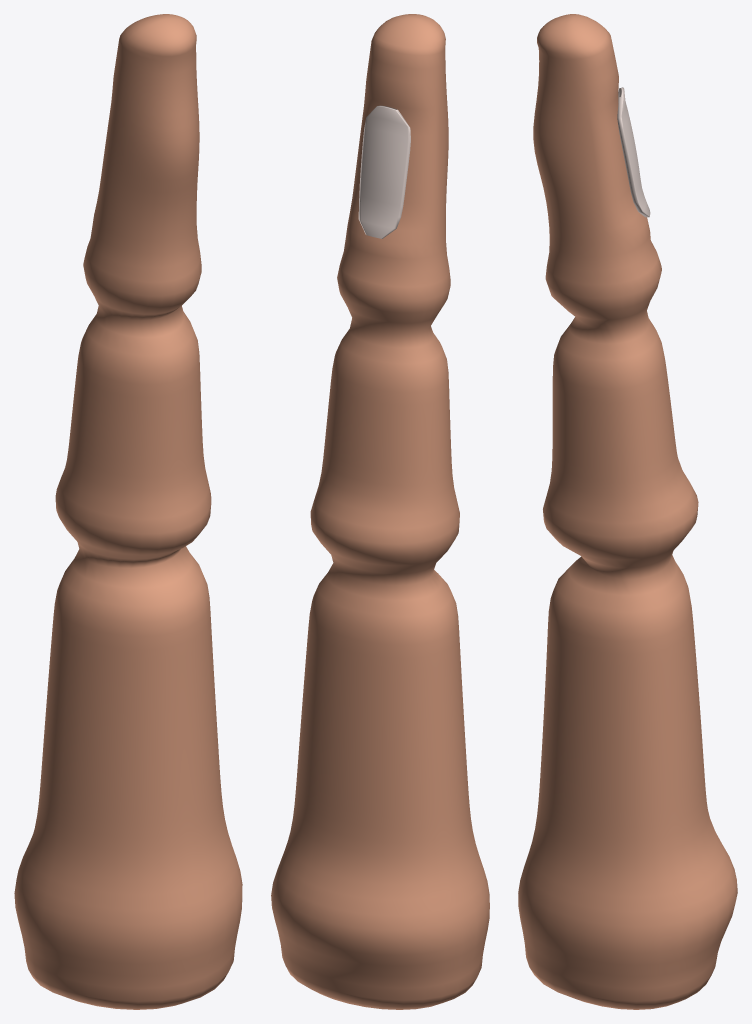
Rendered from Finger.obj.
The picture shows the model from 3 angles, left to right: view 1: azimuth 30°, elevation 25°; view 2: azimuth 150°, elevation 25°; view 3: azimuth 270°, elevation 25°; orthographic projection. The views are drawn at different scales.
Parts seen in each view (by area): view 1: IndexFinger; view 2: IndexFinger; view 3: IndexFinger.
Part boxes in pixels (x1,y1,x2,y2): IndexFinger: (14, 14, 242, 1009); IndexFinger: (271, 14, 489, 1009); IndexFinger: (518, 14, 737, 1009).
Bounding box in the file's own units: 0.0213 × 0.1002 × 0.0206.
